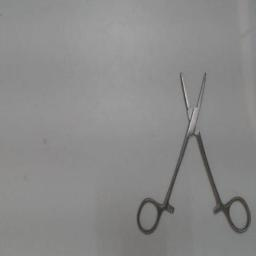Mayo Needle Holder: (134, 62, 254, 238)
